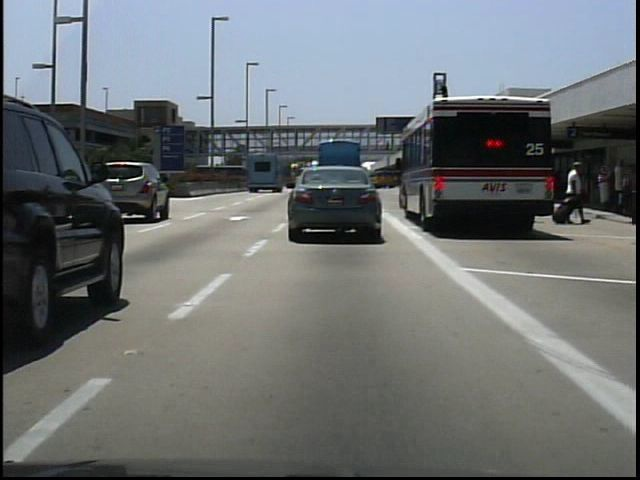person: (561, 156, 590, 229), (382, 137, 395, 157)
